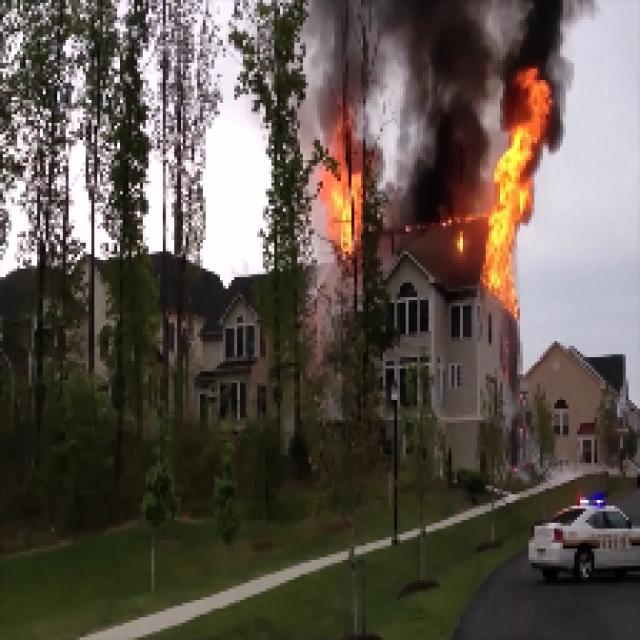fire: (494, 84, 536, 310)
smoke: (401, 8, 485, 201), (521, 0, 561, 63)
